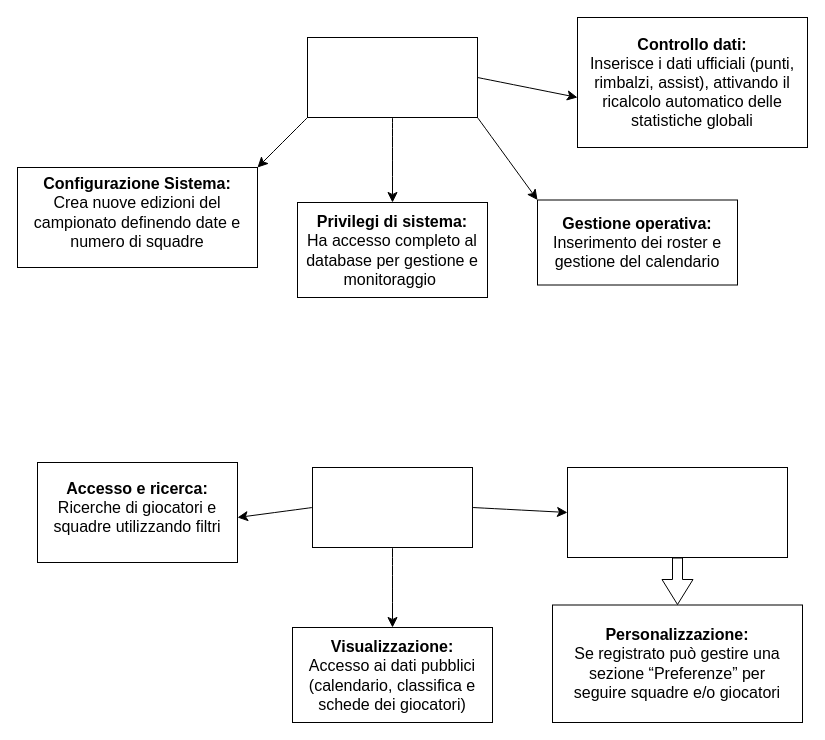
Some shapes in this 825 by 740 pixel diagram are drawn without their labels. Here are the shapes that lost their labels. From the top down, the centre of each, then its label:
At (392,77): "Admin".
At (392,507): "Utente".
At (677,512): "Autenticazione: Può registrarsi fornendo dati anagrafici completi".
